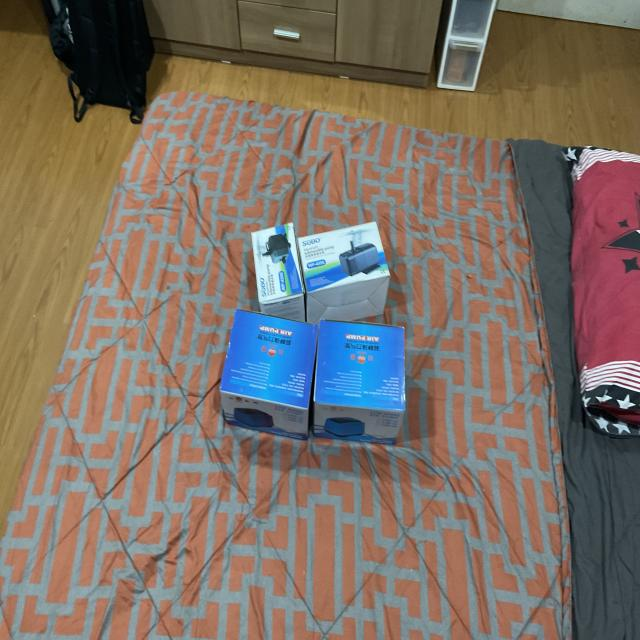SOBO_WP_4200: (289, 202, 402, 342), (237, 212, 311, 336)
YAMANO_LPP_20: (310, 305, 418, 474), (215, 296, 320, 462)
